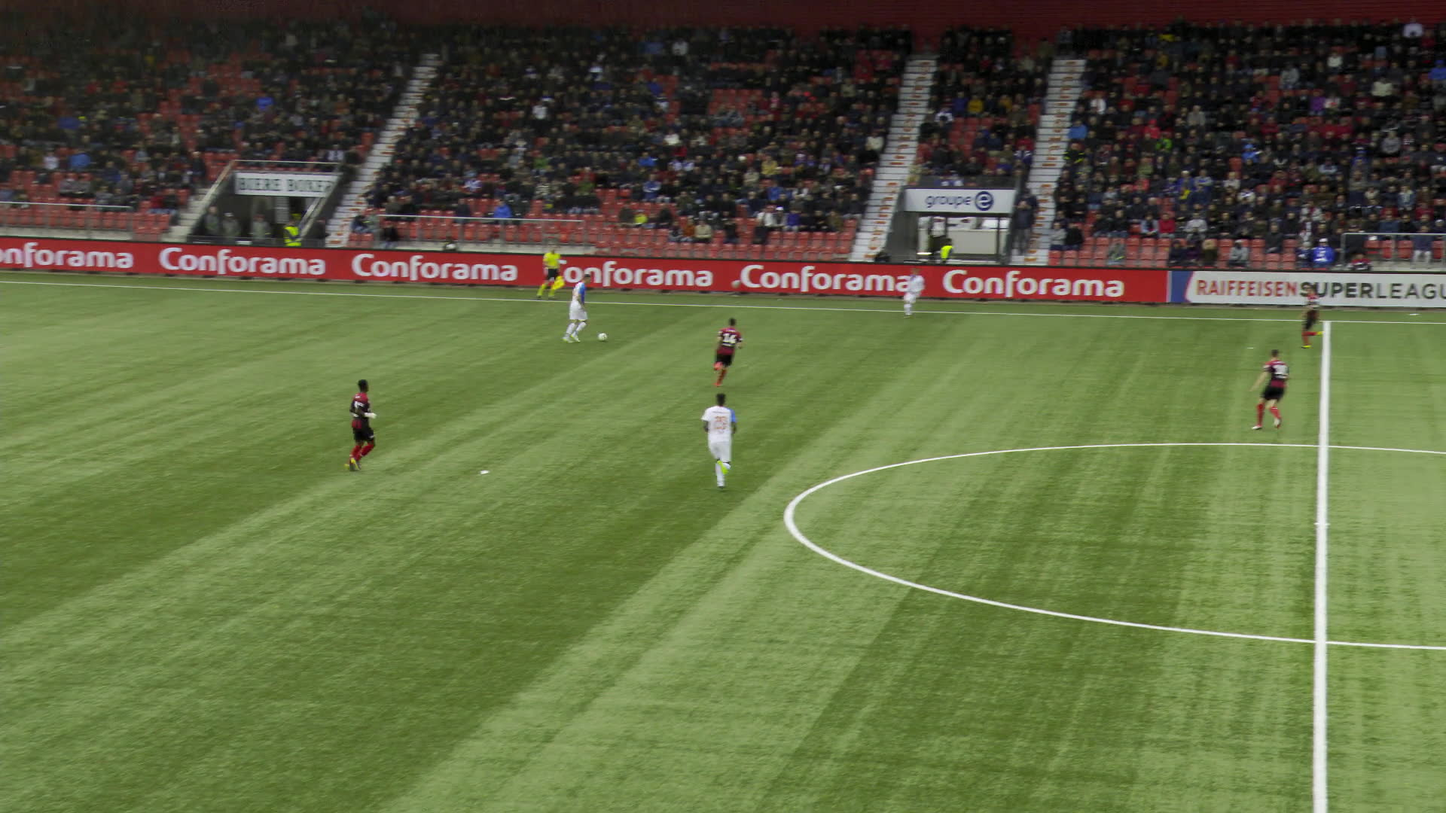ball: (598, 333, 606, 340)
player: (705, 391, 740, 489), (1255, 349, 1295, 431), (345, 380, 380, 470), (1301, 284, 1338, 347), (718, 315, 748, 384), (567, 274, 594, 343), (905, 266, 929, 318)
referee: (540, 244, 569, 299)
